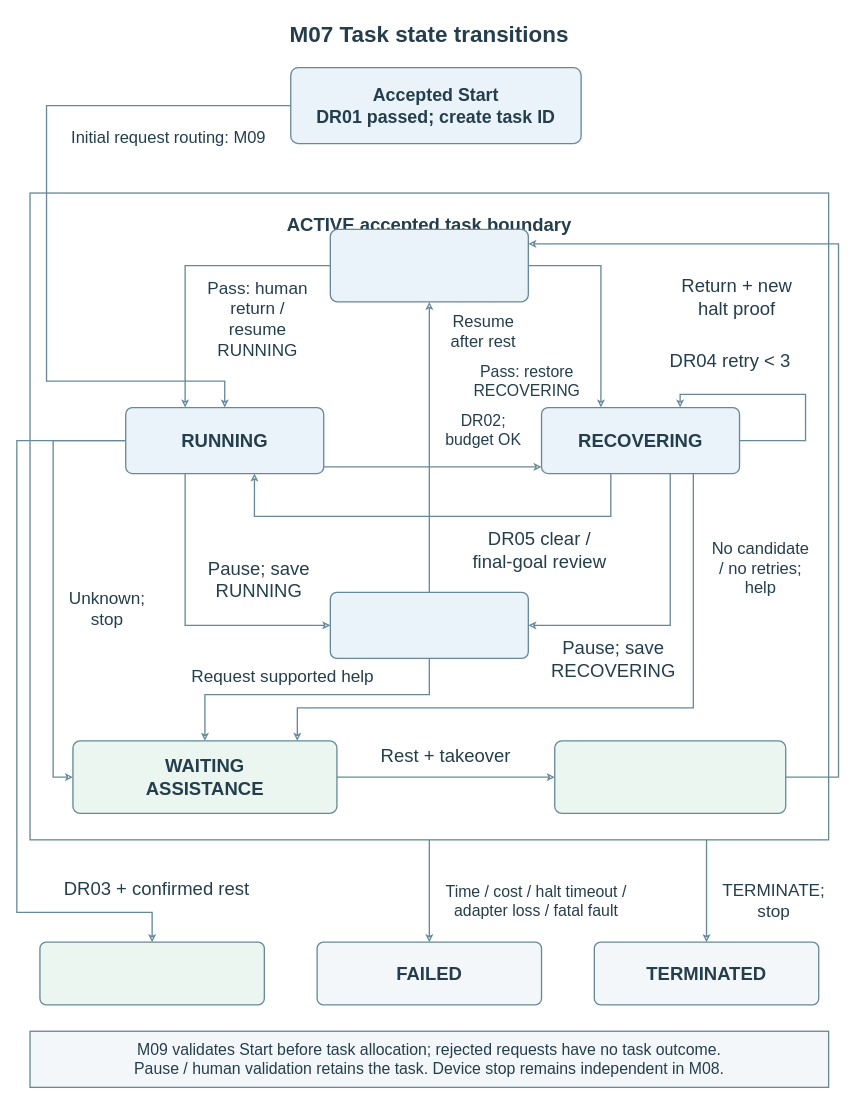
Image size: 855x1099. Some labels were removed from this diagram. The shapes that lost their labels are listed below. From the top down, each one's centre as x and y in pixels, then its label:
point 429,265: VALIDATING pause or human return
point 429,625: PAUSED
point 670,777: ASSISTING
point 152,973: COMPLETED
